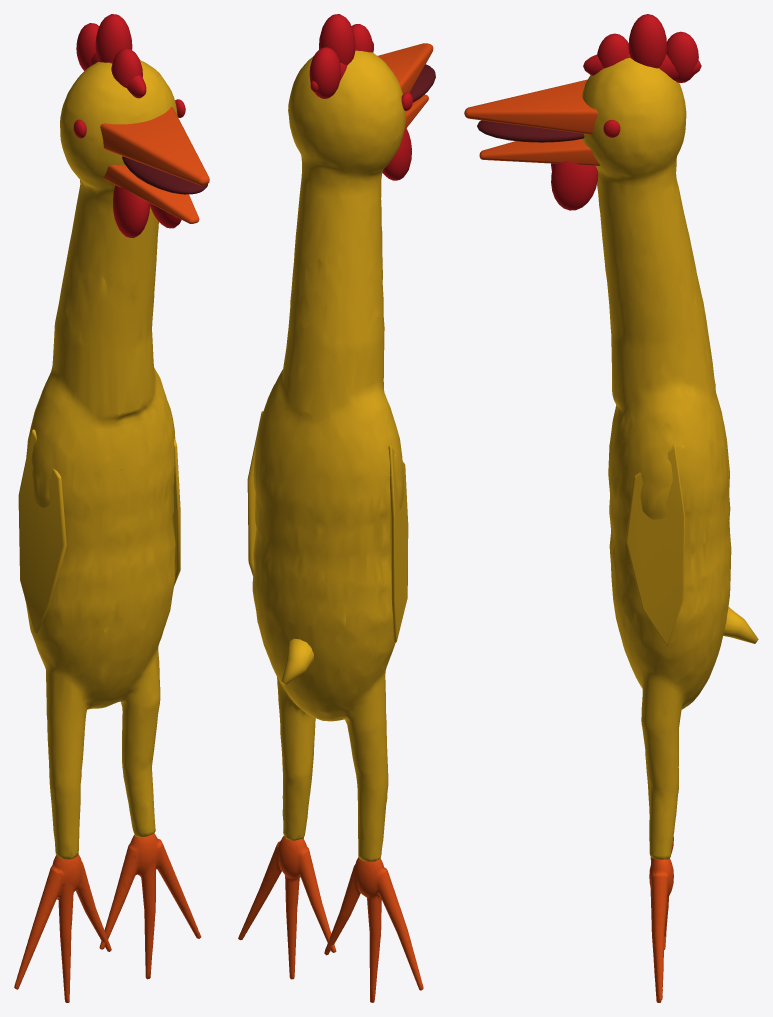
Rendered from chicken.glb.
3 views of the same model, side by side, from view 1: azimuth 30°, elevation 25°; view 2: azimuth 150°, elevation 25°; view 3: azimuth 270°, elevation 25° (orthographic).
Visible parts, largest first — view 1: TKA_Chicken_MoldedBody, TKA_Chicken_EmbossedWing_Left, TKA_Chicken_Beak_Upper, TKA_Chicken_LimpFoot_Left, TKA_Chicken_LimpFoot_Right, TKA_Chicken, TKA_Chicken_Beak_Lower, TKA_Chicken_Wattle_Left, TKA_Chicken_MouthInterior, TKA_Chicken_EmbossedWing_Right; view 2: TKA_Chicken_MoldedBody, TKA_Chicken_LimpFoot_Left, TKA_Chicken_LimpFoot_Right, TKA_Chicken, TKA_Chicken_EmbossedWing_Left, TKA_Chicken_Beak_Upper, TKA_Chicken_TailSpur, TKA_Chicken_EmbossedWing_Right, TKA_Chicken_Wattle_Left, TKA_Chicken_MouthInterior; view 3: TKA_Chicken_MoldedBody, TKA_Chicken_EmbossedWing_Right, TKA_Chicken_Beak_Upper, TKA_Chicken, TKA_Chicken_Beak_Lower, TKA_Chicken_LimpFoot_Right, TKA_Chicken_Wattle_Right, TKA_Chicken_MouthInterior, TKA_Chicken_TailSpur.
Part boxes in pixels (x1,y1,x2,y2): TKA_Chicken_MoldedBody: (25, 60, 177, 859); TKA_Chicken_EmbossedWing_Left: (18, 429, 66, 633); TKA_Chicken_Beak_Upper: (100, 107, 209, 185); TKA_Chicken_LimpFoot_Left: (14, 854, 111, 1002); TKA_Chicken_LimpFoot_Right: (99, 833, 201, 979); TKA_Chicken: (76, 14, 142, 87); TKA_Chicken_Beak_Lower: (103, 165, 199, 223); TKA_Chicken_Wattle_Left: (113, 185, 150, 238); TKA_Chicken_MouthInterior: (122, 156, 207, 194); TKA_Chicken_EmbossedWing_Right: (173, 437, 180, 585); TKA_Chicken_MoldedBody: (252, 50, 405, 861); TKA_Chicken_LimpFoot_Left: (324, 857, 423, 1002); TKA_Chicken_LimpFoot_Right: (238, 836, 336, 979); TKA_Chicken: (309, 14, 373, 98); TKA_Chicken_EmbossedWing_Left: (388, 445, 408, 642); TKA_Chicken_Beak_Upper: (378, 43, 433, 94); TKA_Chicken_TailSpur: (281, 638, 313, 684); TKA_Chicken_EmbossedWing_Right: (247, 411, 263, 576); TKA_Chicken_Wattle_Left: (382, 128, 411, 180); TKA_Chicken_MouthInterior: (410, 64, 435, 102); TKA_Chicken_MoldedBody: (582, 58, 731, 859); TKA_Chicken_EmbossedWing_Right: (626, 445, 684, 645); TKA_Chicken_Beak_Upper: (464, 79, 597, 134); TKA_Chicken: (597, 14, 698, 82); TKA_Chicken_Beak_Lower: (479, 139, 600, 165); TKA_Chicken_LimpFoot_Right: (649, 858, 673, 1002); TKA_Chicken_Wattle_Right: (551, 161, 598, 210); TKA_Chicken_MouthInterior: (477, 120, 584, 142); TKA_Chicken_TailSpur: (723, 607, 758, 643).
Size of the model in its own units: 0.1548 by 0.778 by 0.2133.
